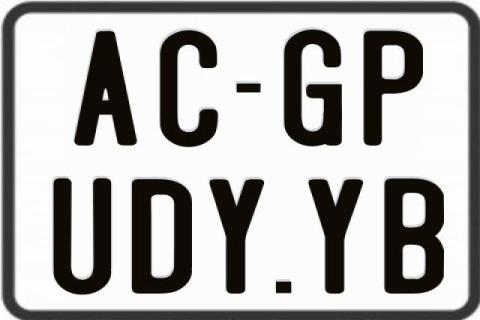A: (74, 31, 141, 145)
B: (384, 177, 447, 293)
C: (157, 28, 215, 146)
D: (131, 179, 193, 296)
G: (283, 28, 347, 147)
P: (362, 30, 424, 150)
U: (53, 176, 115, 296)
Y: (306, 178, 362, 296), (206, 179, 261, 297)
